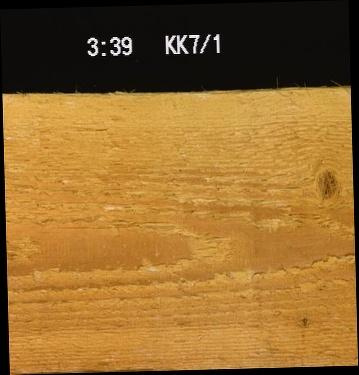small_knot: (298, 314, 311, 329)
sound_knot: (312, 168, 340, 202)
